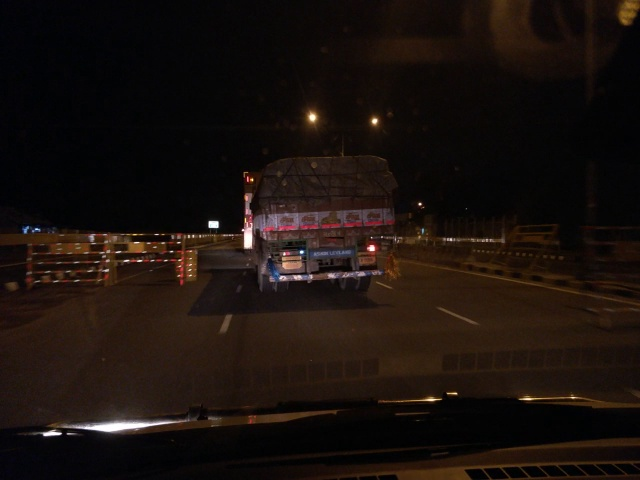truck: (247, 158, 394, 295)
